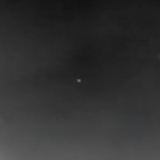Target: (77, 79, 81, 83)
